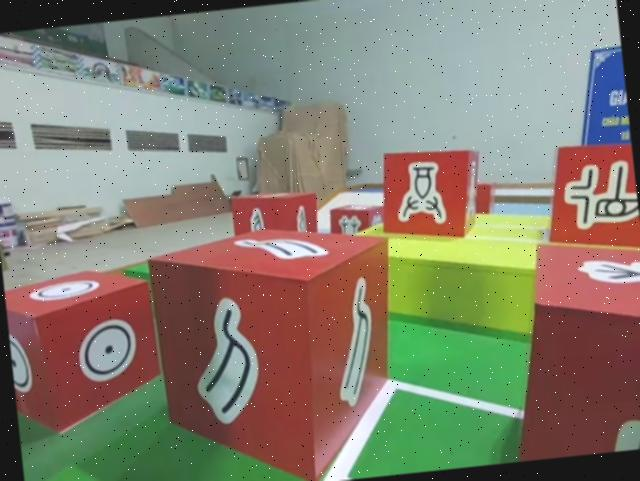R2 Real: (141, 212, 410, 481), (489, 232, 640, 462), (1, 255, 165, 437), (537, 135, 640, 261), (374, 138, 487, 248)
